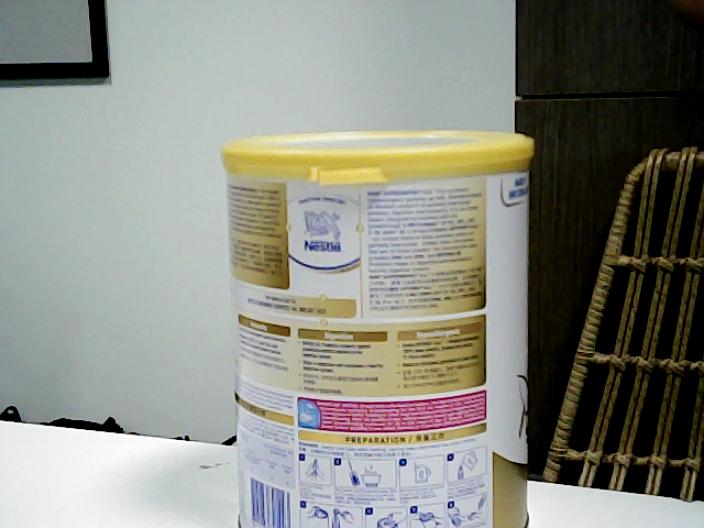Babymilk-powder_800-899g_Halal_NonHealthy: (218, 125, 536, 528)
